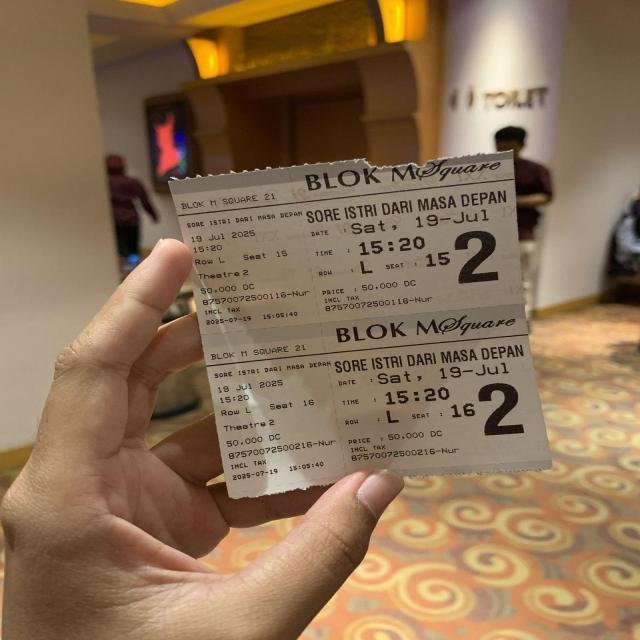date: (188, 229, 278, 254)
store: (301, 159, 511, 191)
total: (314, 279, 434, 298)
